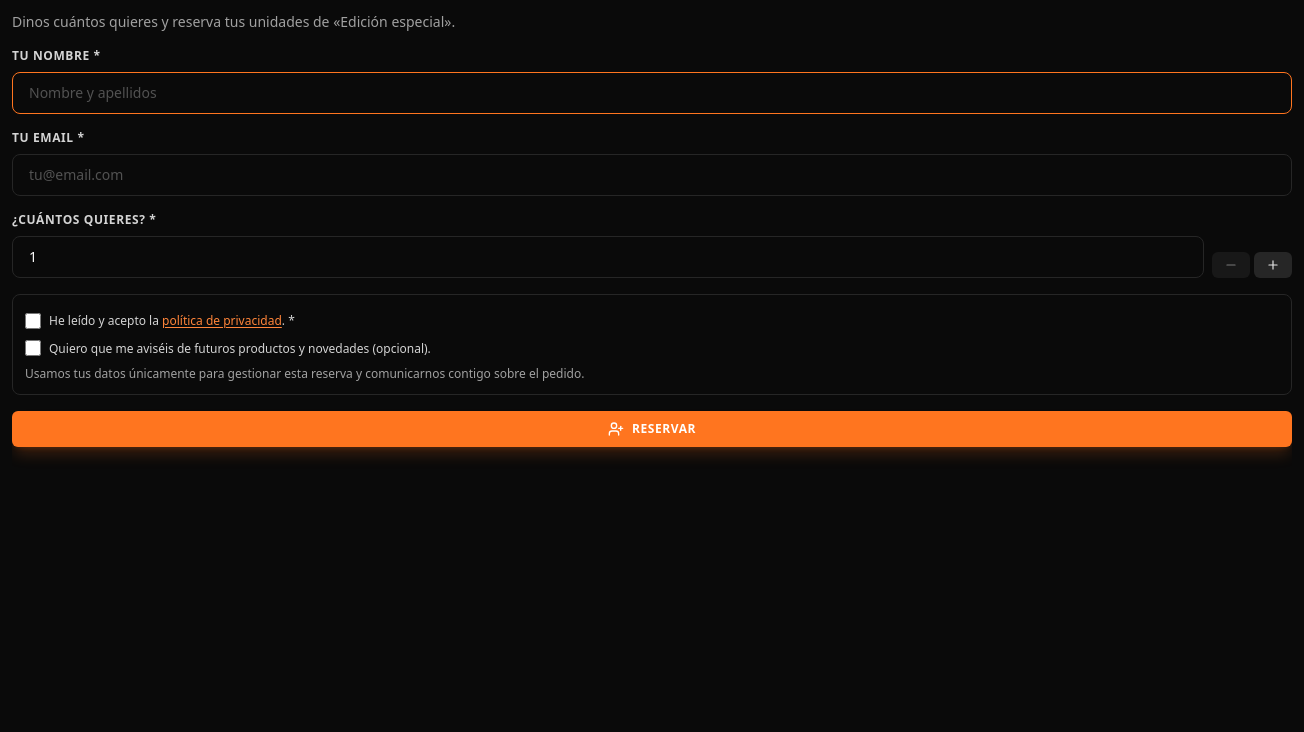
Test: WorkshopSignupForm · unidades en especiales › usa la terminología de reserva en avisos y consentimiento
The image size is (1304, 732).
Type "Ana" into the field labelled "Tu nombre *".
click(652, 93); type("Ana")  # box top-left (12, 72), bottom-right (1292, 114)
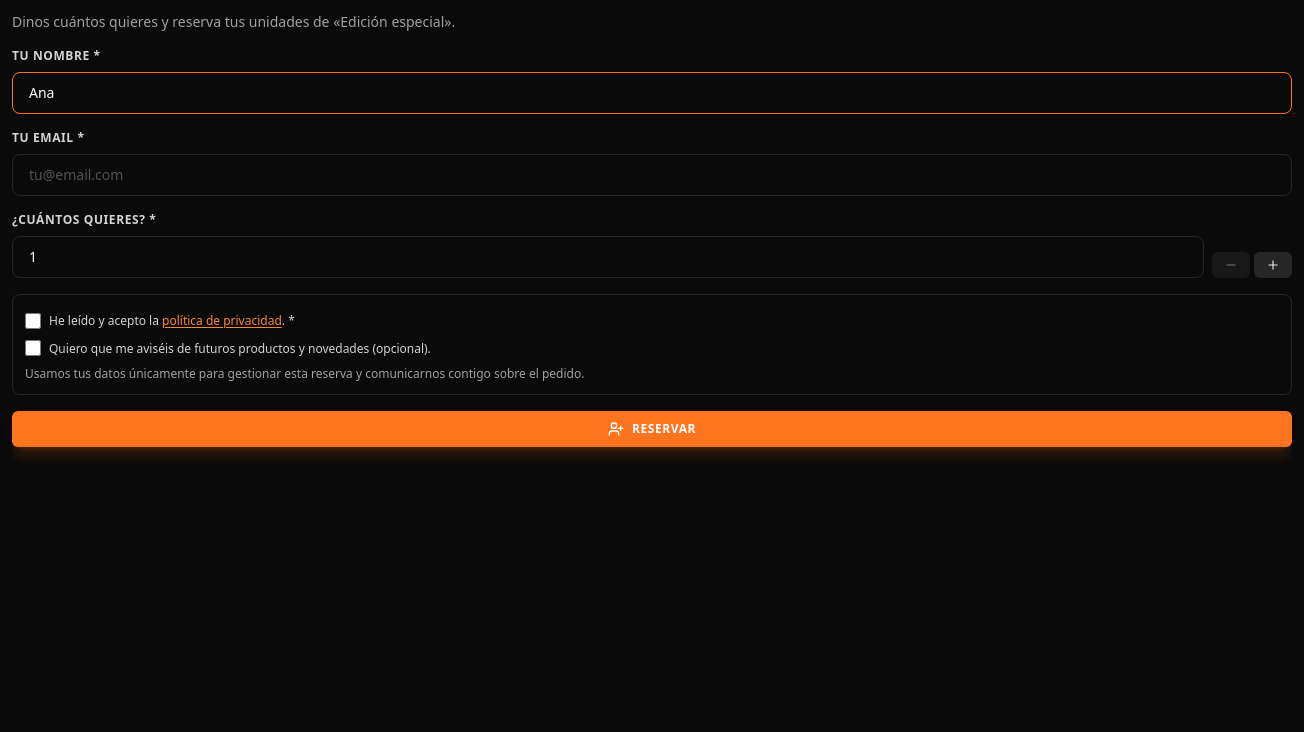
Type "ana@example.com" into the field labelled "Tu email *".
click(652, 175); type("ana@example.com")  # box top-left (12, 154), bottom-right (1292, 196)
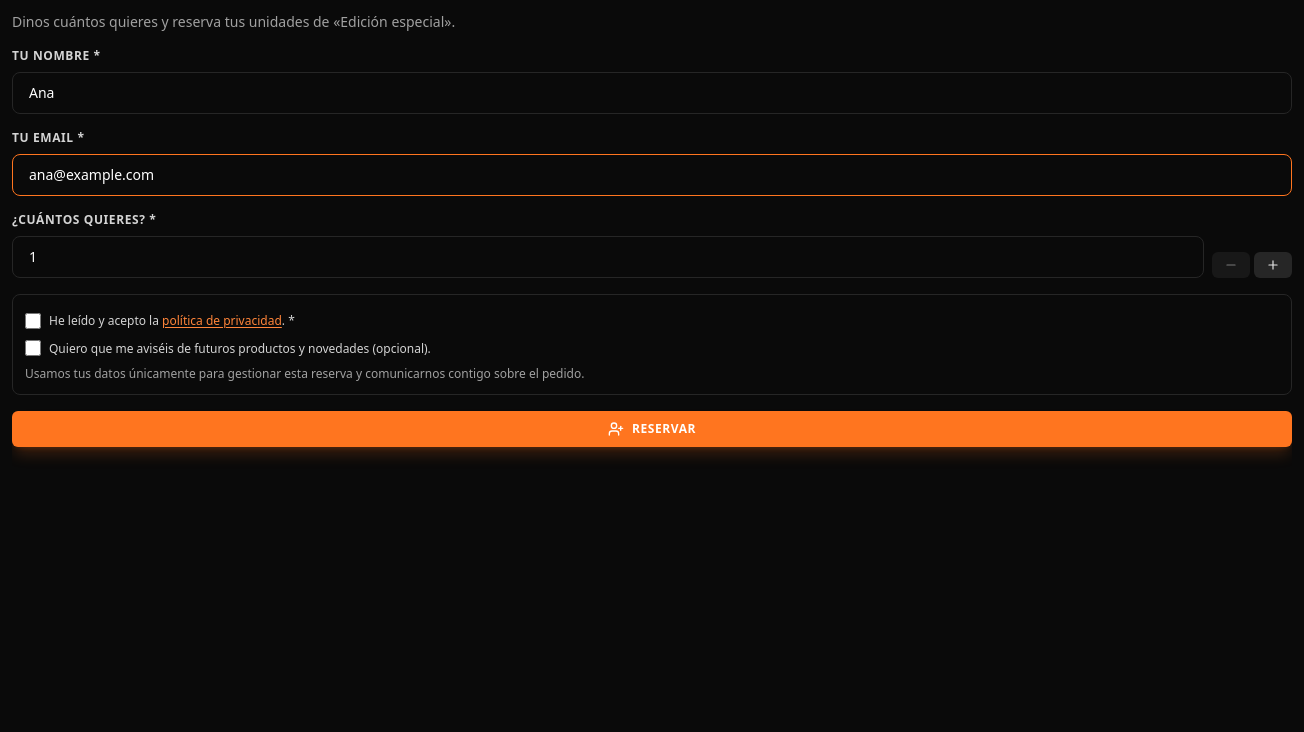
Click the checkbox labelled "He leído y acepto la política de privacidad . *".
click(33, 321)  # box top-left (25, 313), bottom-right (41, 329)
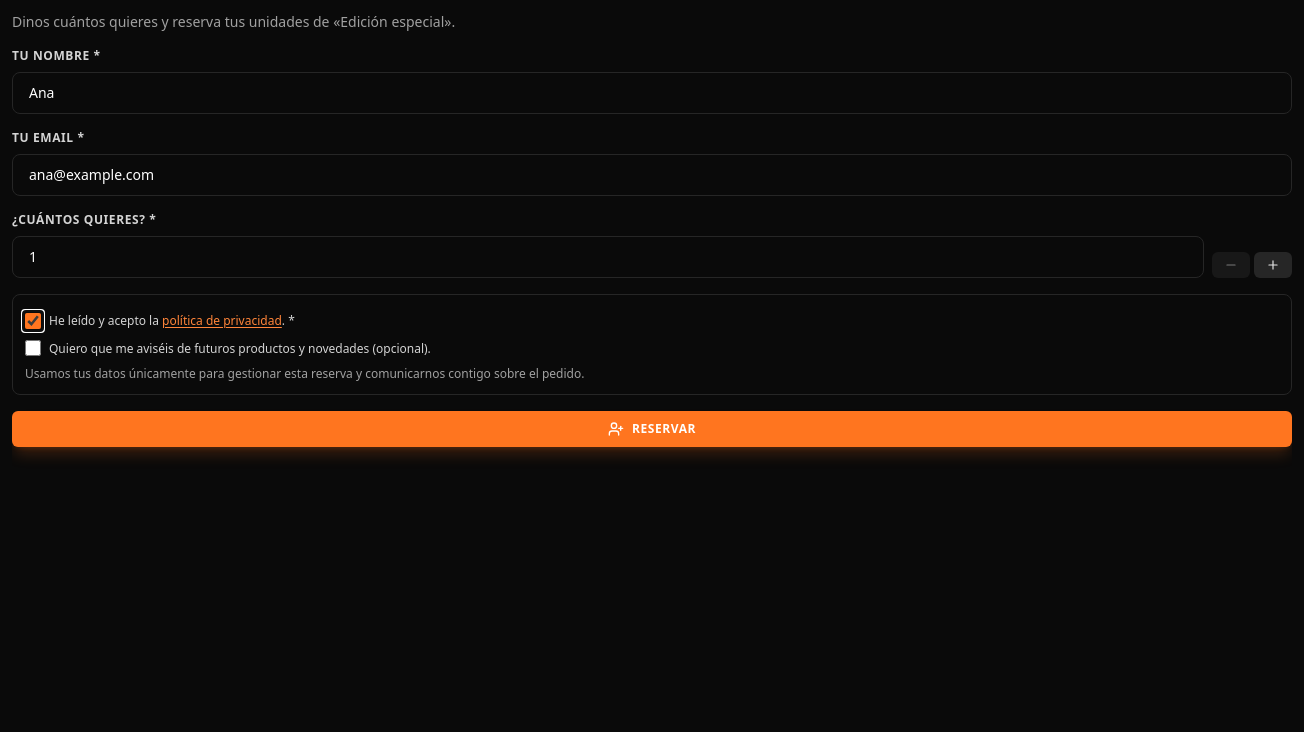
Click the button "Reservar".
click(652, 429)  # box top-left (12, 411), bottom-right (1292, 447)
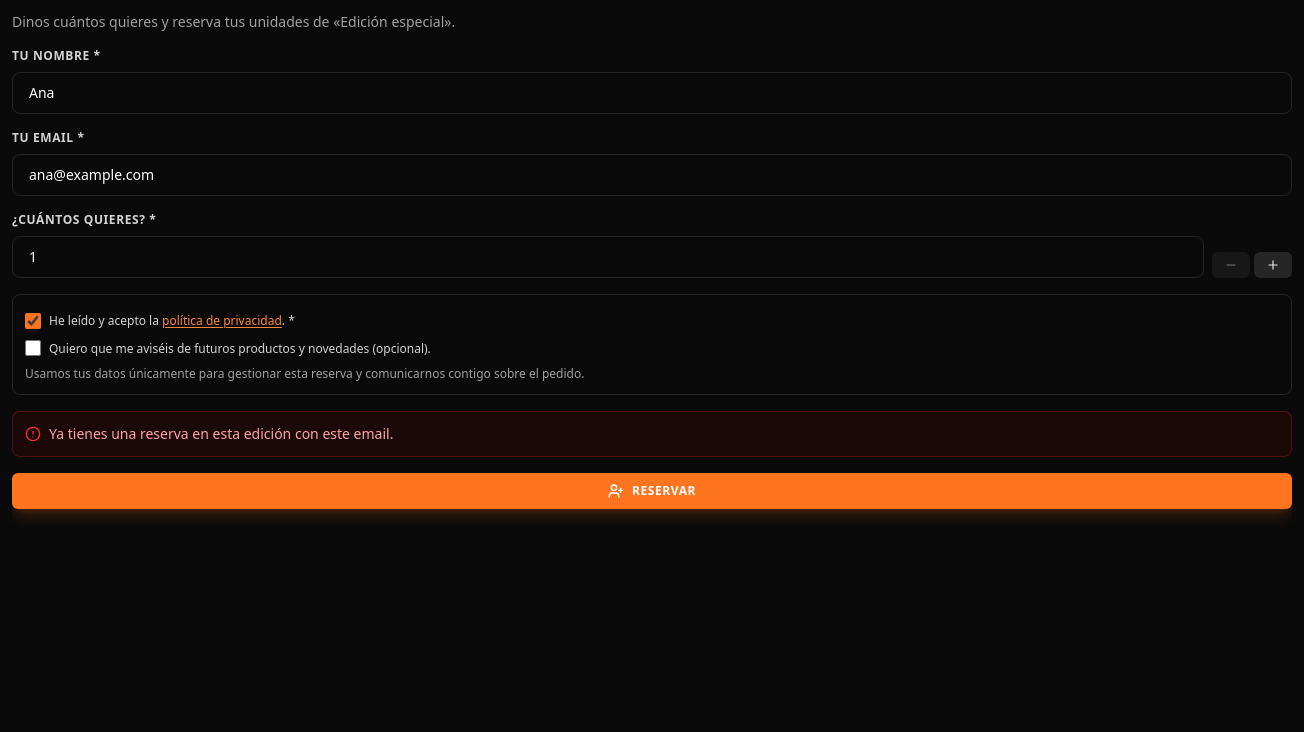
Expected: the checkbox labelled "Quiero que me aviséis de futuros productos y novedades (opcional)." is shown, top-left (25, 340), bottom-right (41, 356)
Result: the text "Ya tienes una reserva en esta edición con este email." is shown at top-left (49, 424), bottom-right (393, 444)
